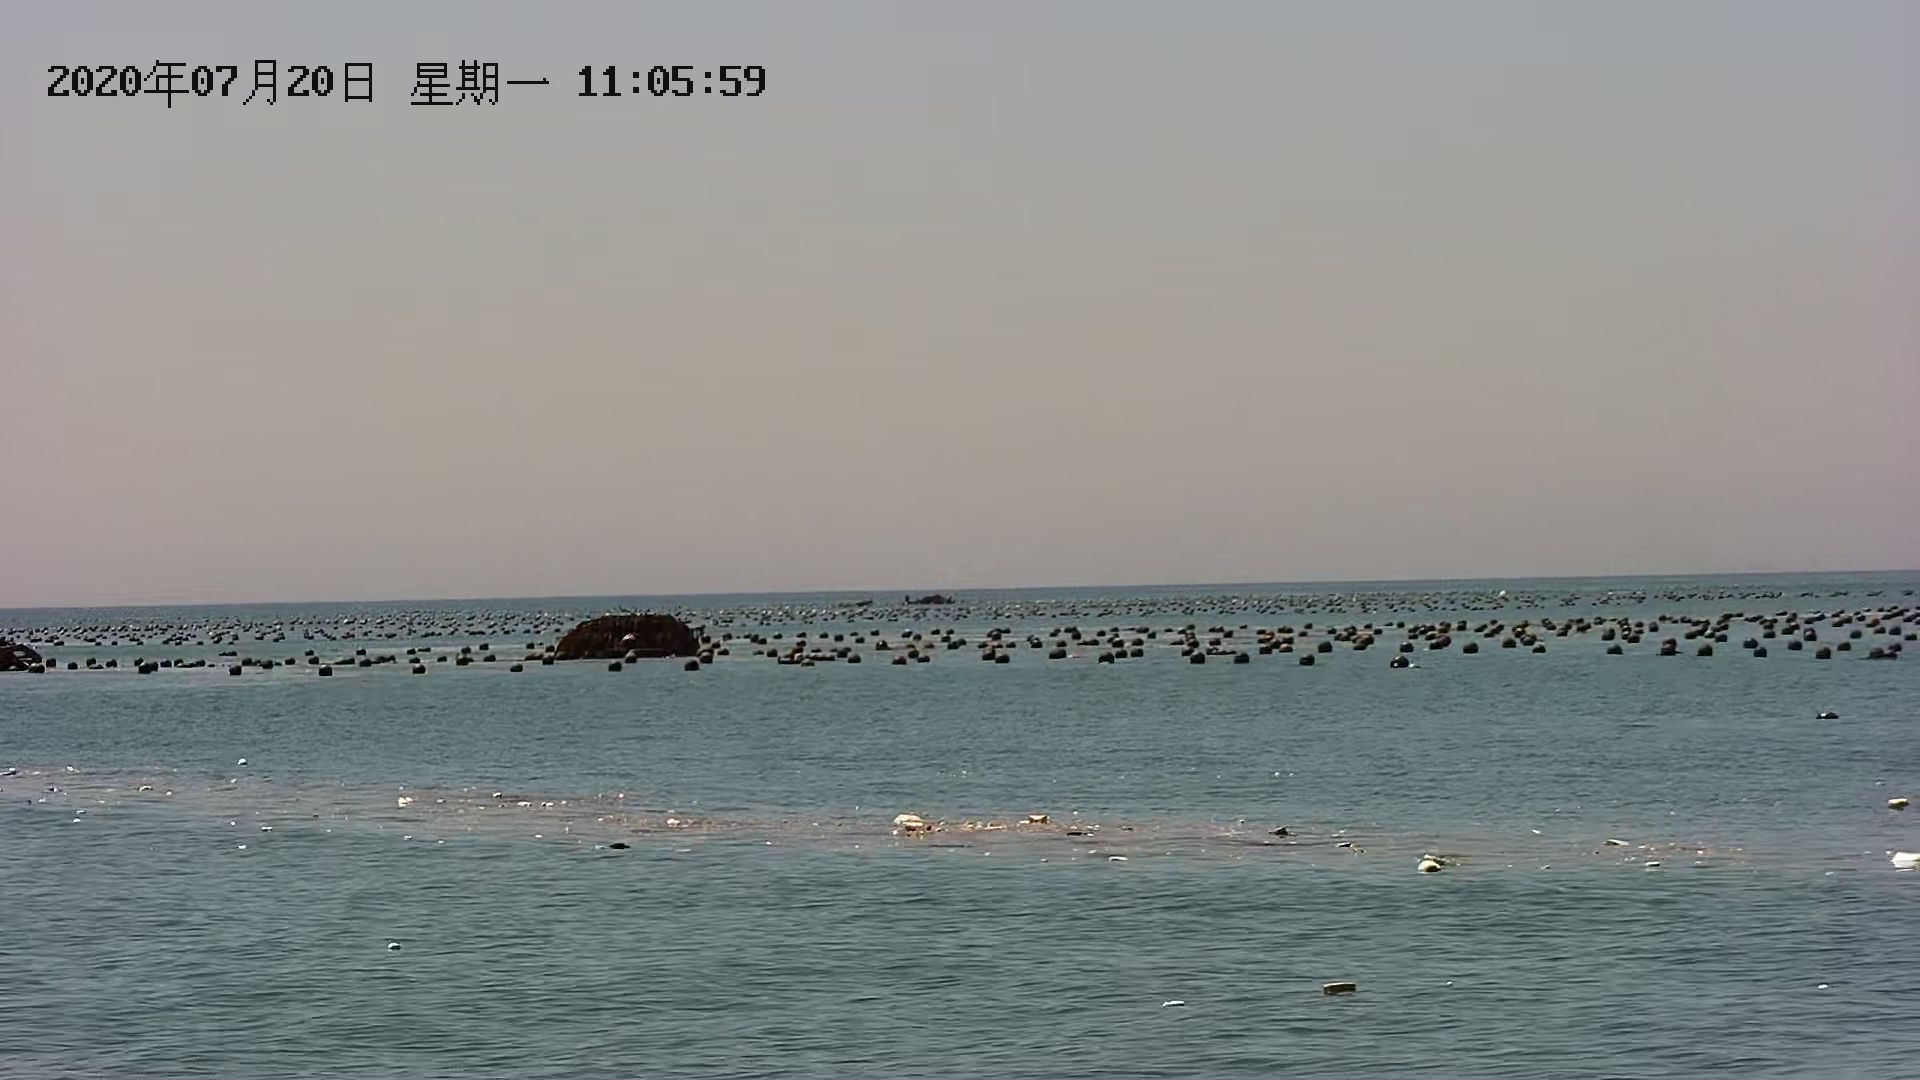rock: (545, 604, 717, 671)
rubbish: (891, 808, 1075, 832), (1412, 847, 1466, 880), (1313, 975, 1369, 1001), (1891, 848, 1920, 880)
